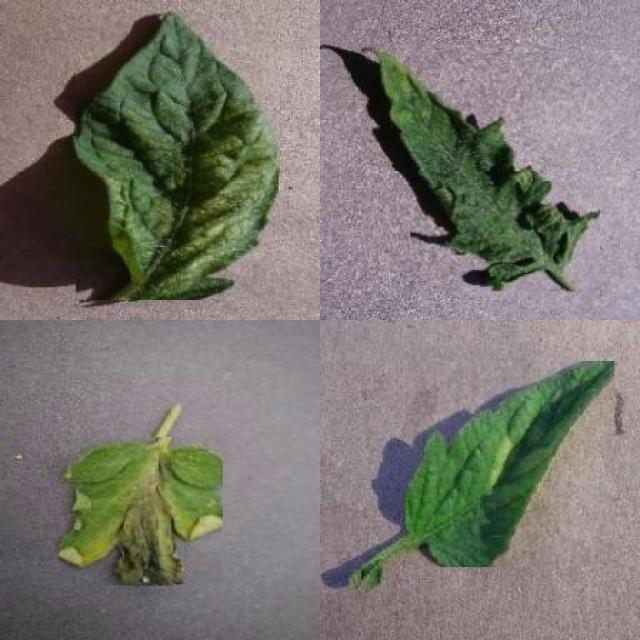Late Blight: (58, 438, 223, 586)
Leaf Mold: (405, 360, 615, 567)
Mosaic Virus: (363, 43, 600, 291)
Spider Mites: (75, 10, 278, 300)
